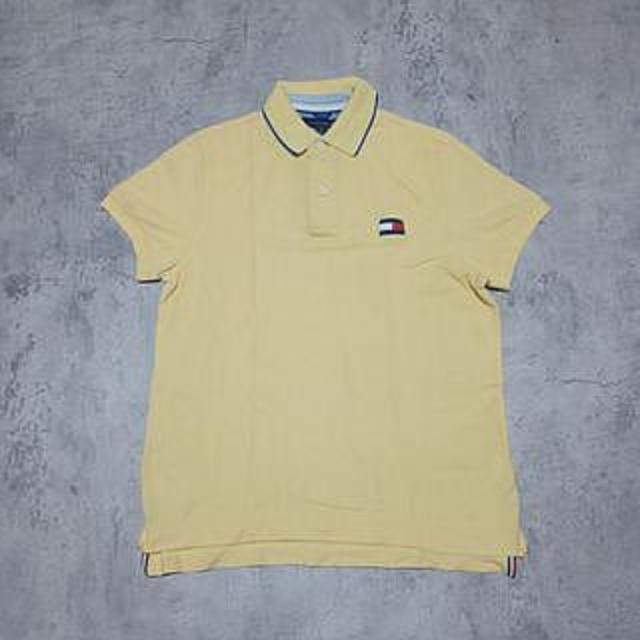T_SHIRT: (99, 65, 559, 592)
